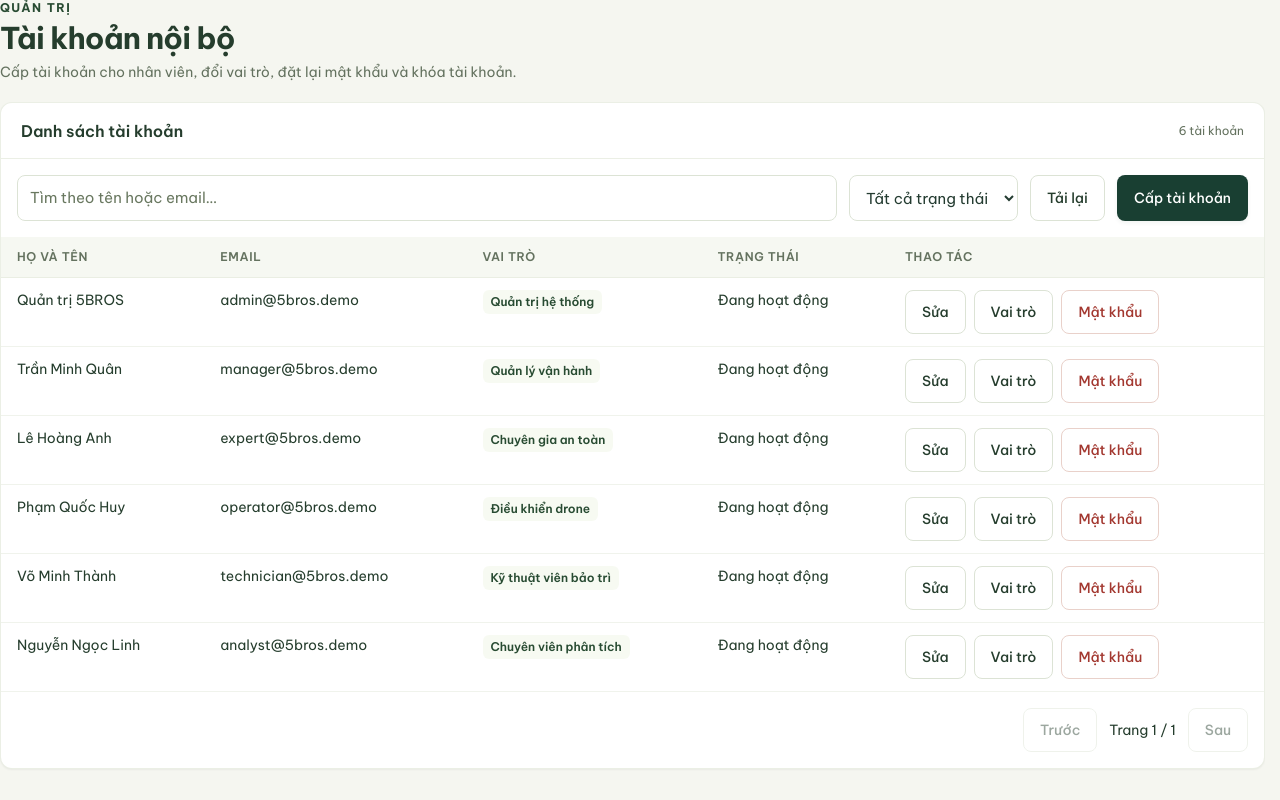
Scenario: AccountsPage › chặn gửi khi chưa chọn vai trò, và không đóng hộp thoại
Expected: the text "admin@5bros.demo" is shown, [204, 278, 466, 346]
Click the button "Cấp tài khoản" at (1182, 198), box [1117, 175, 1248, 221]
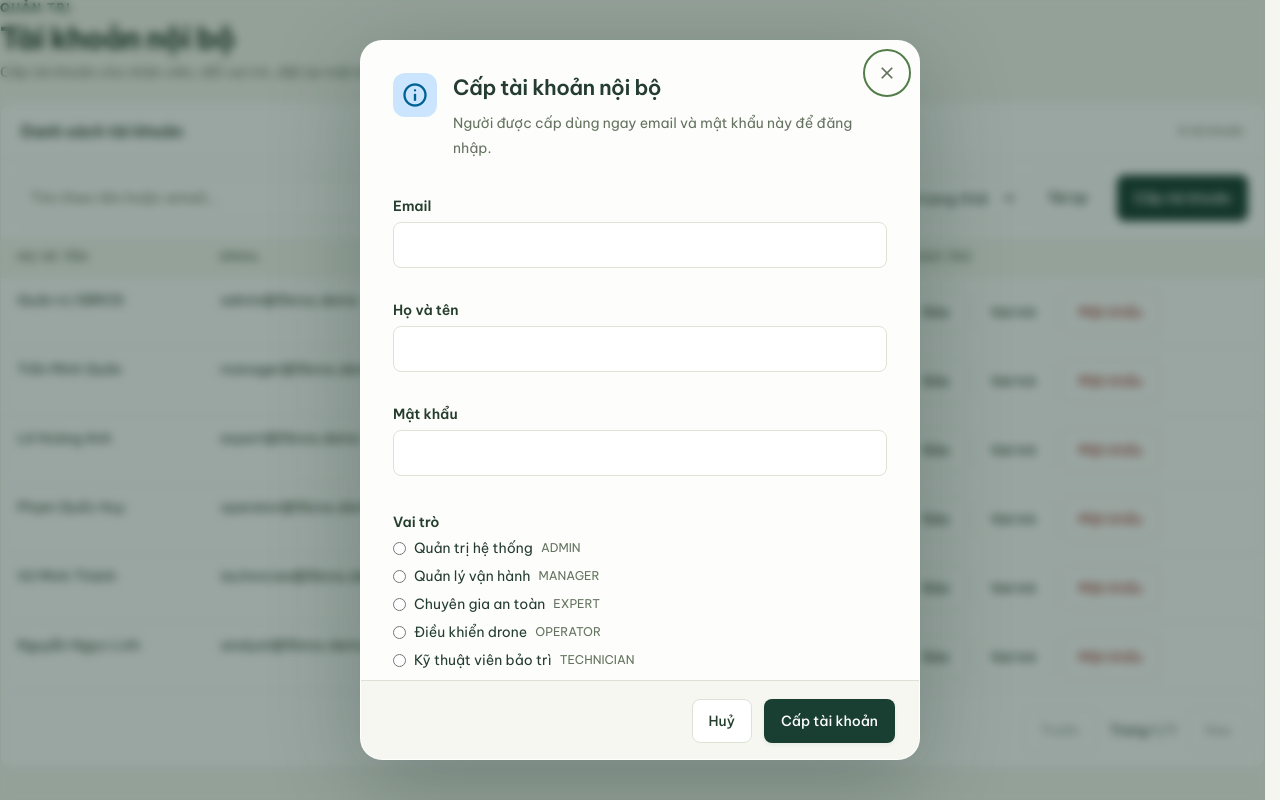
Type "moi@5bros.local" into the field labelled "Email" at (640, 245), box [393, 222, 887, 268]
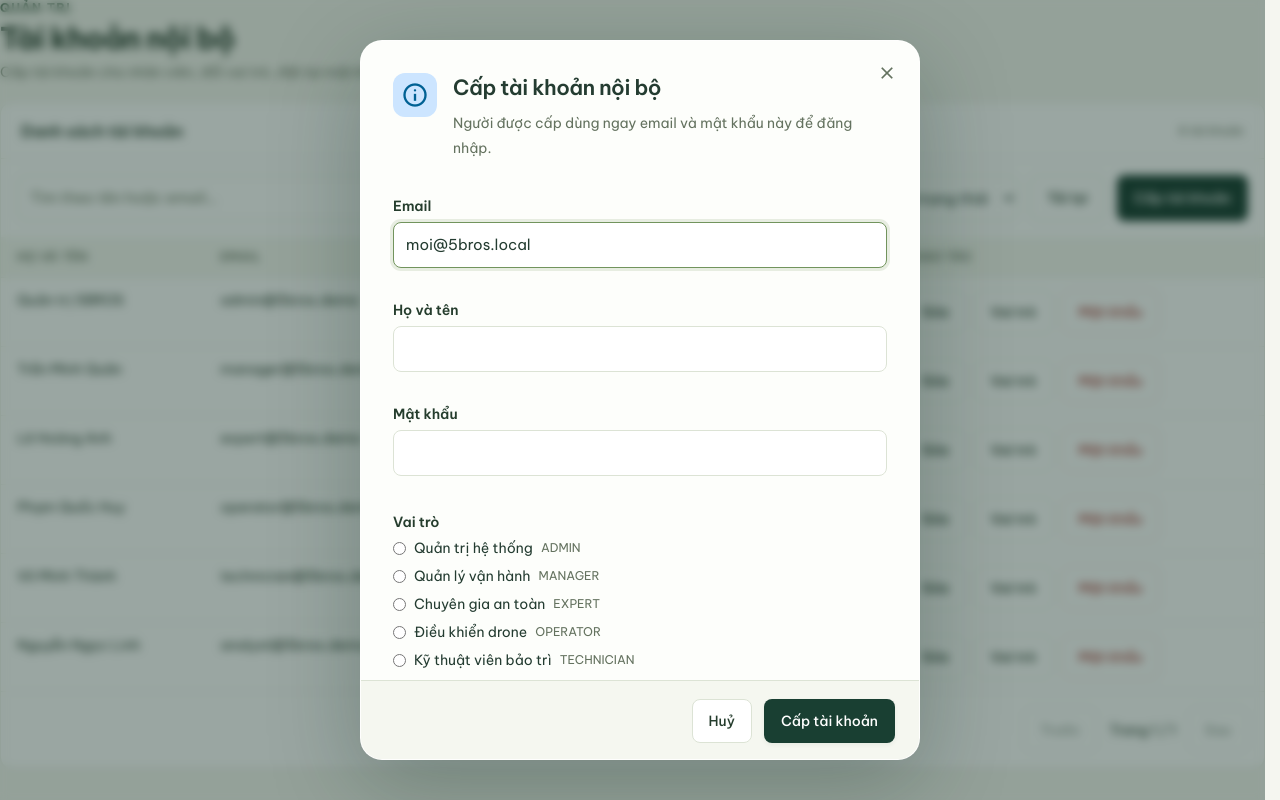
Type "Người Mới" into the field labelled "Họ và tên" at (640, 349), box [393, 326, 887, 372]
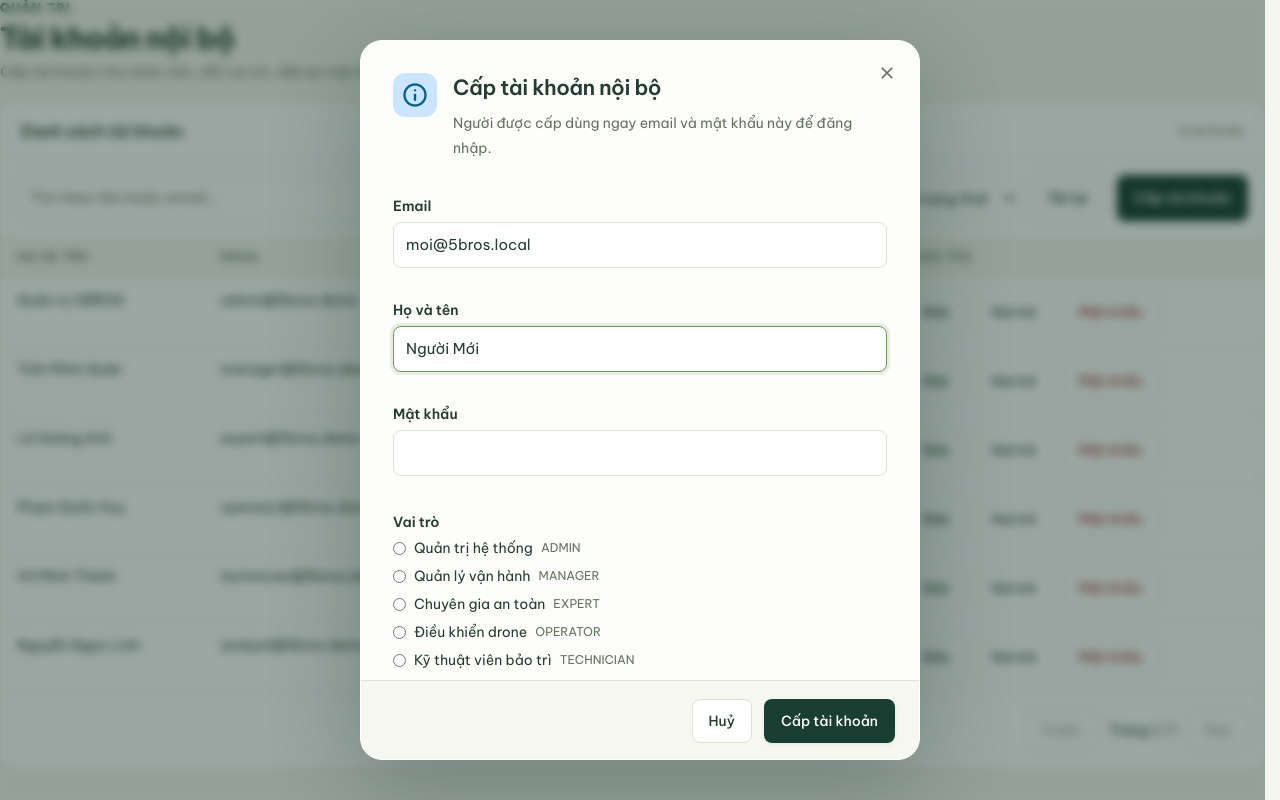
Type "MatKhau@123" into the password field labelled "Mật khẩu" at (640, 453), box [393, 430, 887, 476]
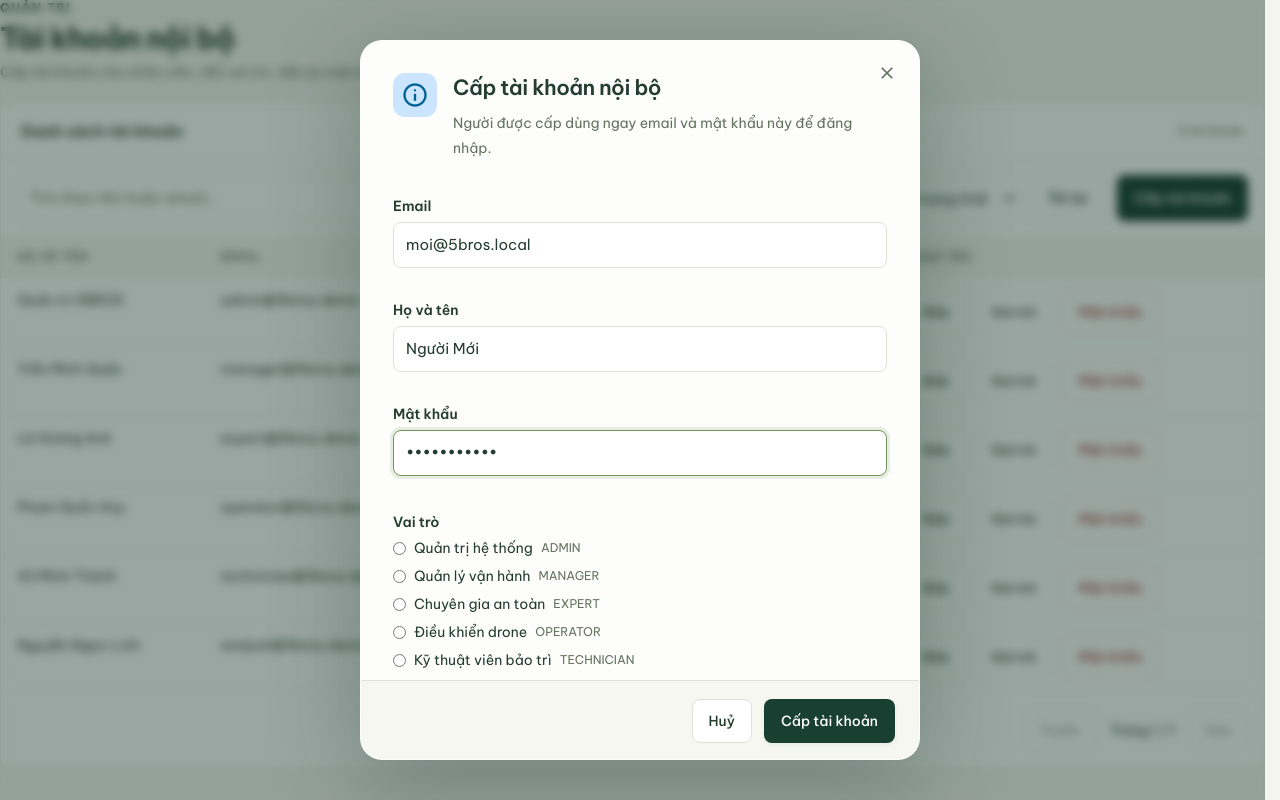
Click the button "Cấp tài khoản" at (829, 721), box [764, 699, 895, 743]
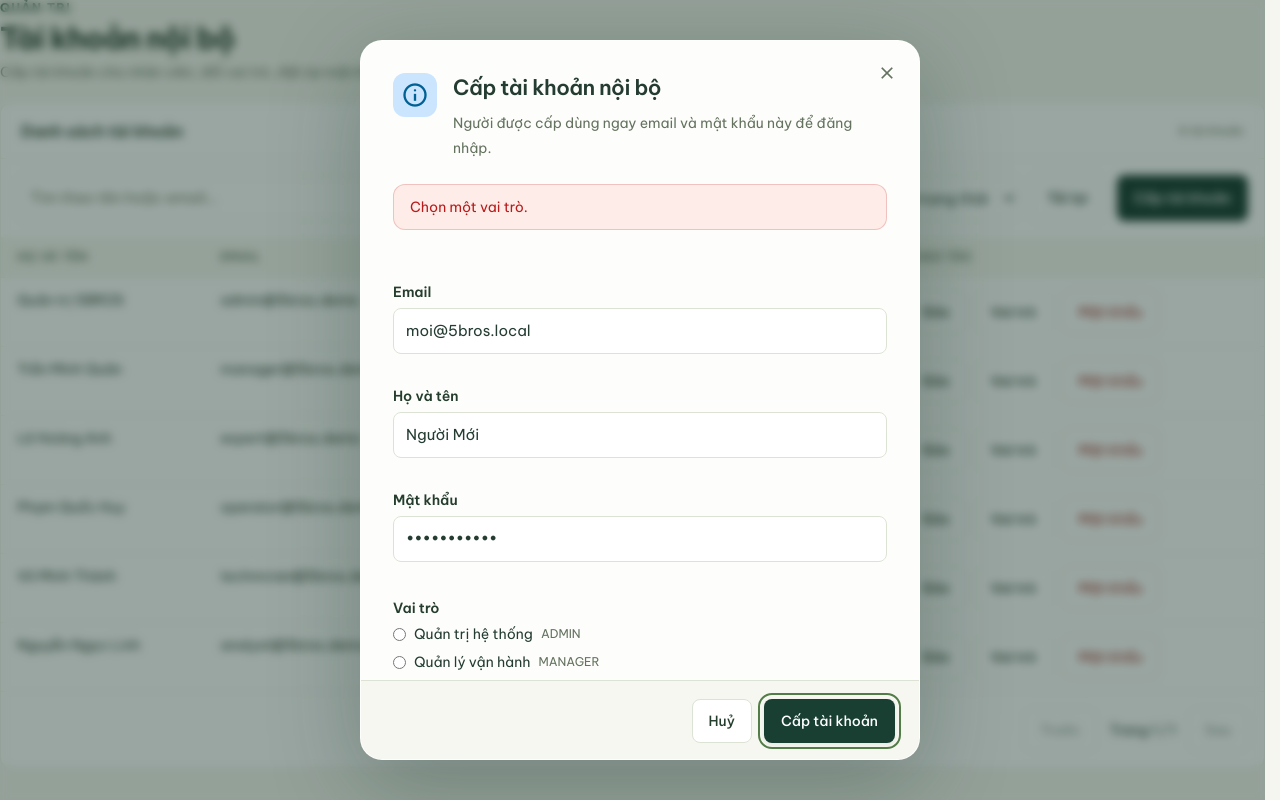
Expected: the dialog is shown, [360, 40, 920, 760]
Expected: the text "Chọn một vai trò." is shown, [393, 184, 887, 230]
